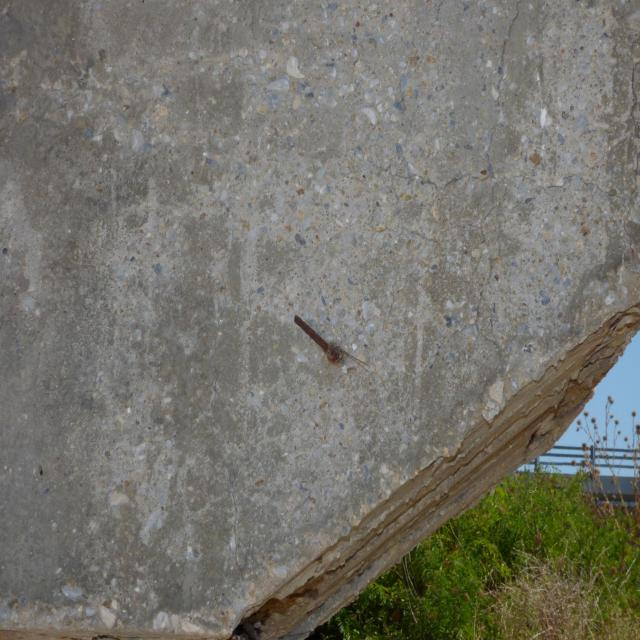corrosion: (284, 296, 366, 381), (226, 613, 270, 640)
